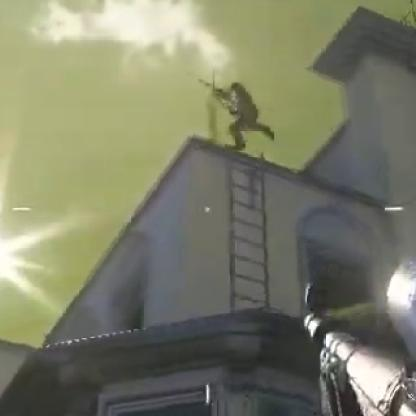enemy: (214, 80, 277, 150)
